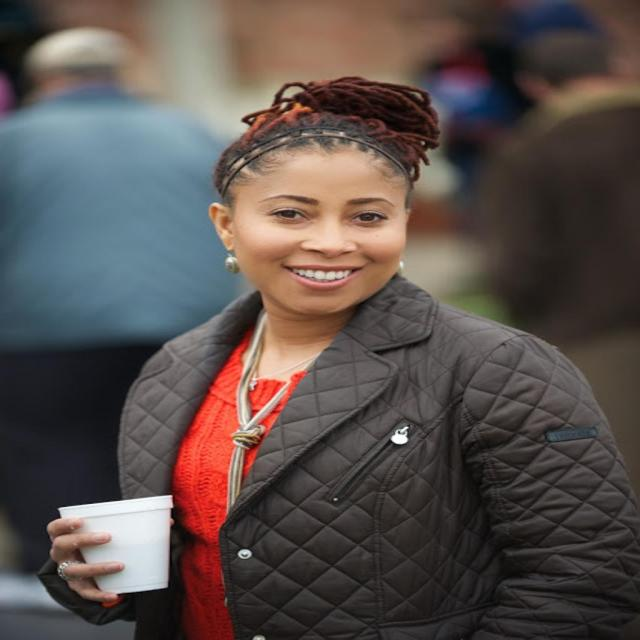nomask: (240, 146, 409, 308)
